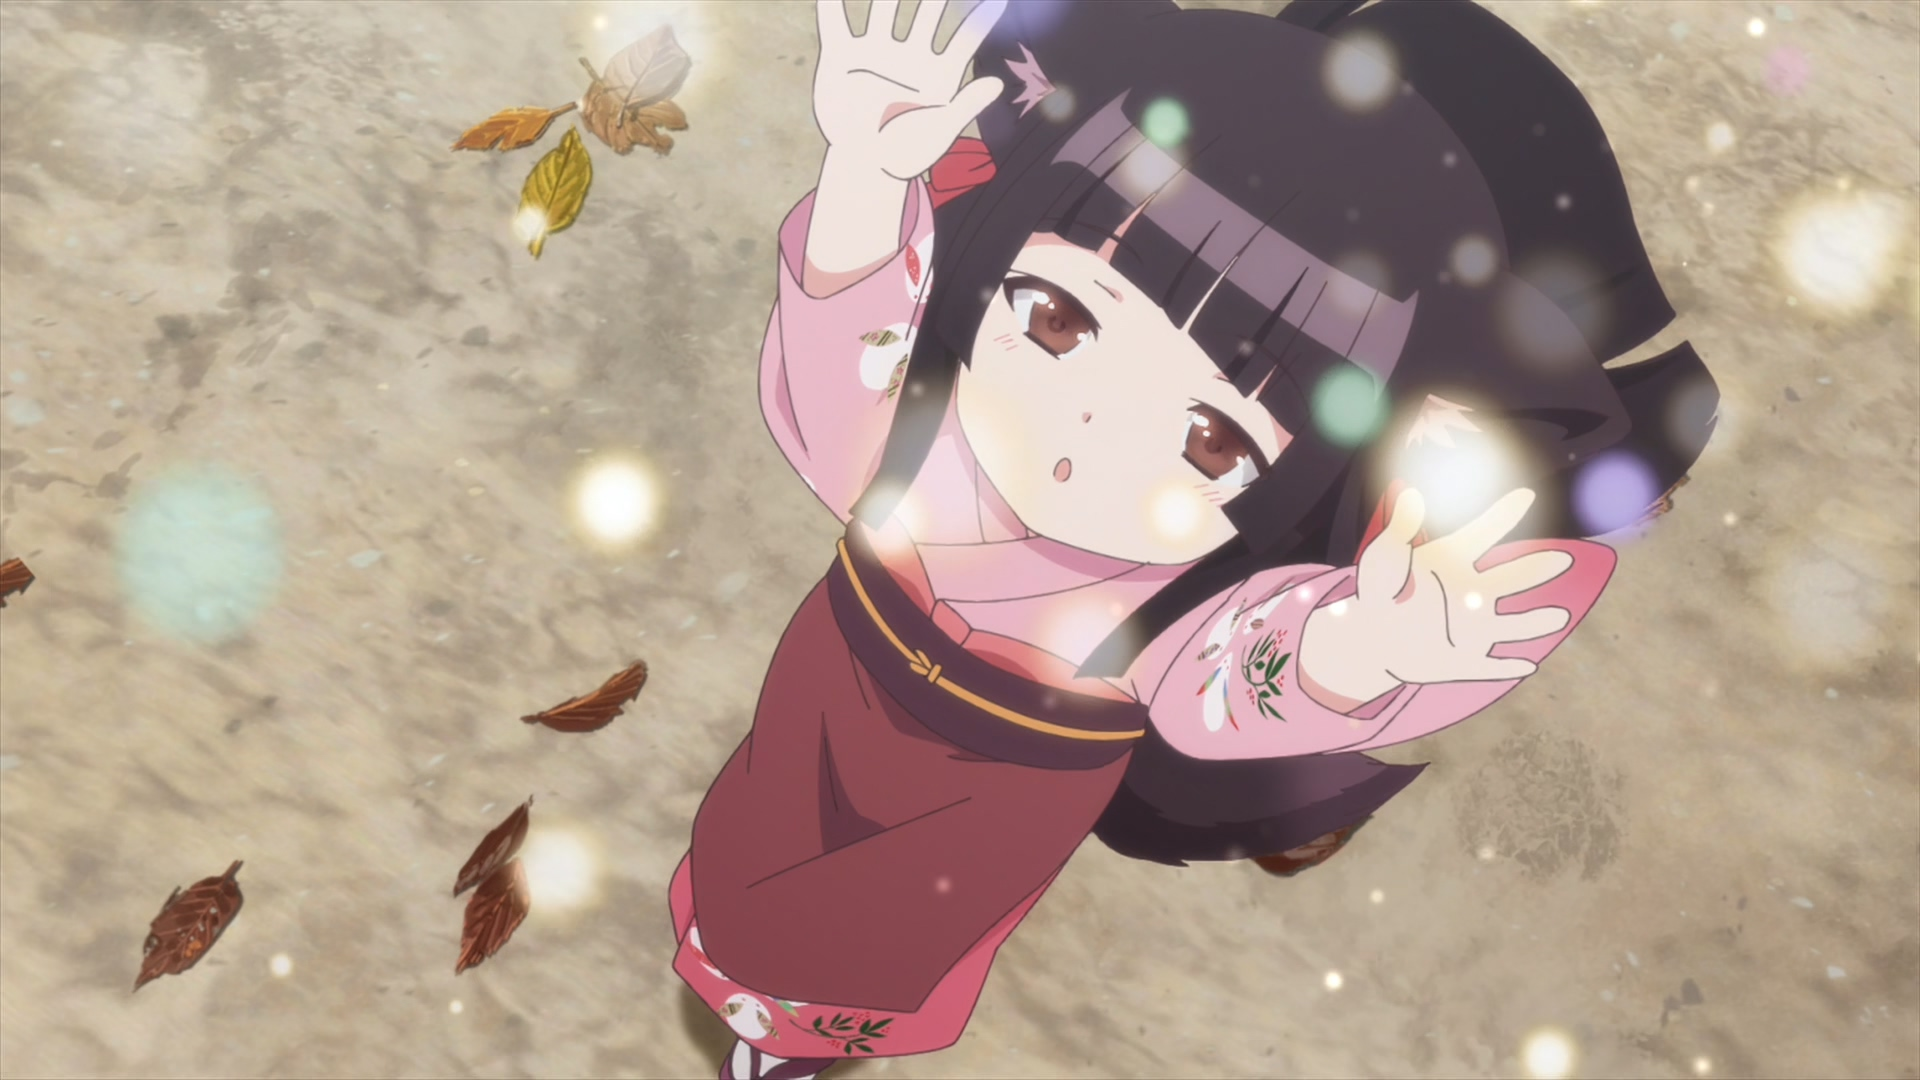樱: (669, 1, 1718, 1080)
